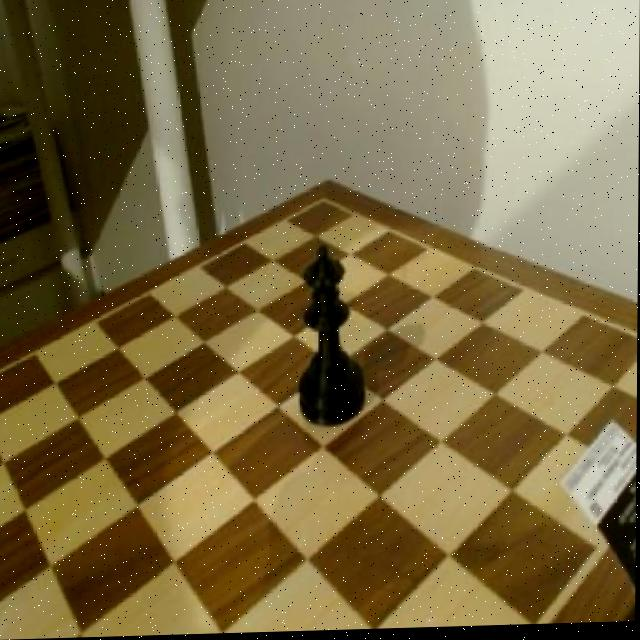black-pawn: (299, 245, 372, 434)
